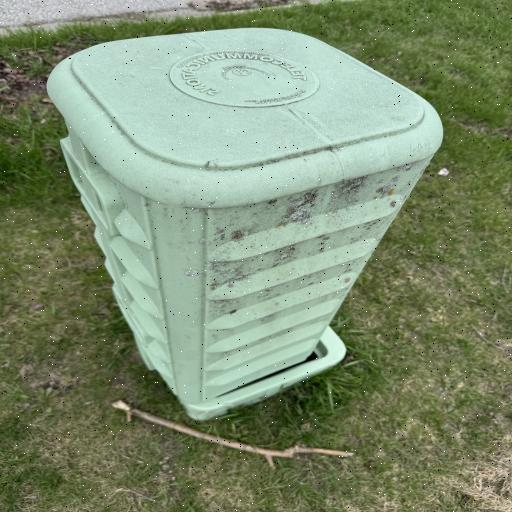Electrical Box: (44, 26, 446, 420)
